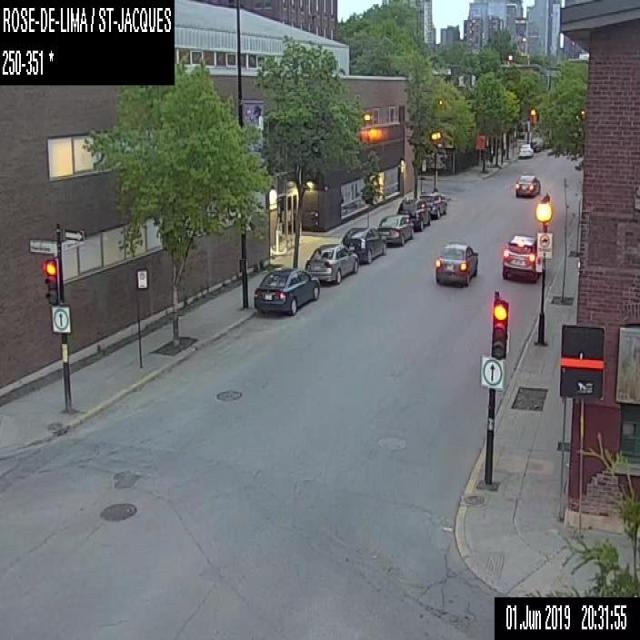vehicle: (252, 266, 321, 318), (305, 240, 358, 282), (434, 240, 479, 288), (501, 233, 541, 284), (341, 224, 387, 262), (378, 214, 415, 246), (395, 197, 430, 230), (416, 189, 449, 218), (514, 172, 541, 199), (518, 142, 532, 157)
